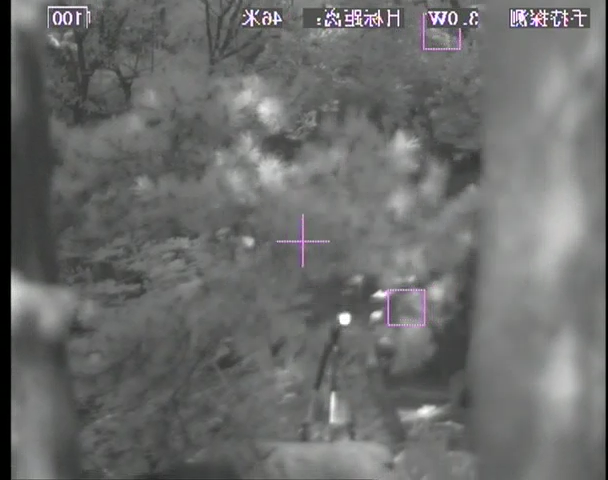my: (336, 311, 351, 326)
